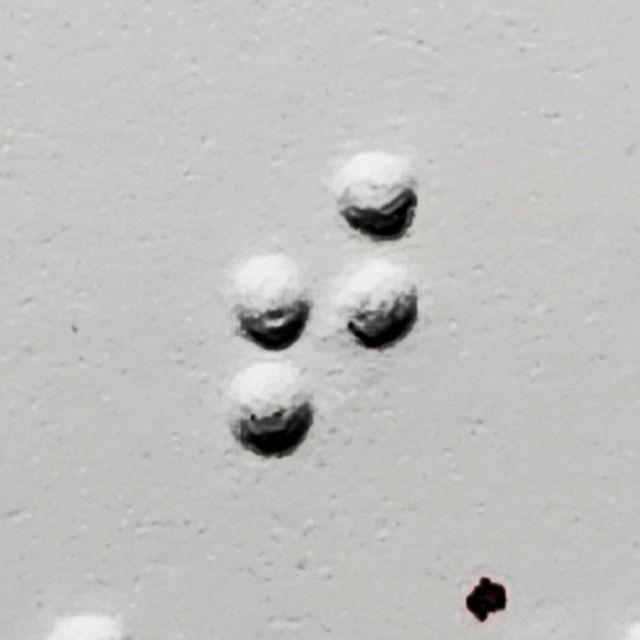t: (232, 150, 416, 457)
